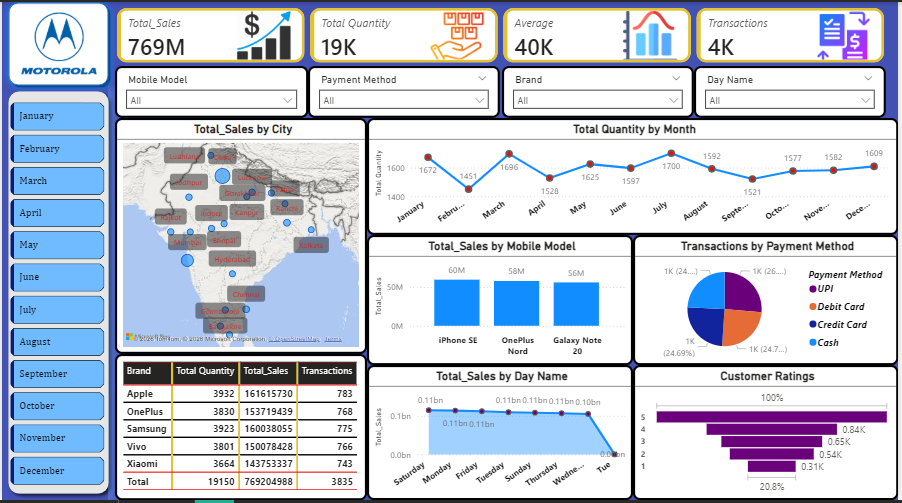

This screenshot's page, from the dashboard's own definition file:
{"tool":"powerbi","page":{"name":"Page 1","canvas":[1280,720],"ordinal":0},"visuals":[{"type":"shape","box":[0,0,161.4,137.1],"z":0},{"type":"image","box":[11.4,14.3,140,107.1],"z":1000},{"type":"shape","box":[0,127.1,161.4,592.9],"z":2000},{"type":"advancedSlicerVisual","fields":{"Values":["Sheet1.Date.Variation.Date Hierarchy.Month"]},"box":[7.1,127.1,144.3,592.9],"z":3000},{"type":"cardVisual","fields":{"Data":["Sheet1.Total_Sales","Sheet1.Total Quantity","Sheet1.Average","Sheet1.Transactions"]},"box":[147.1,0,1132.9,112.9],"z":4000},{"type":"map","fields":{"Category":["Sheet1.City"],"Size":["Sheet1.Total_Sales"]},"box":[161.4,174.3,360,337.1],"z":5000},{"type":"lineChart","fields":{"Y":["Sheet1.Total Quantity"],"Category":["Sheet1.Date.Variation.Date Hierarchy.Month"]},"box":[521.4,174.3,758.6,167.1],"z":6000},{"type":"clusteredColumnChart","fields":{"Category":["Sheet1.Mobile Model"],"Y":["Sheet1.Total_Sales"]},"box":[521.4,341.4,380,185.7],"z":7000},{"type":"pieChart","fields":{"Category":["Sheet1.Payment Method"],"Y":["Sheet1.Transactions"]},"box":[901.4,341.4,378.6,185.7],"z":8000},{"type":"funnel","title":"Customer Ratings","fields":{"Category":["Sheet1.Customer Ratings"],"Y":["CountNonNull(Sheet1.Customer Ratings)"]},"box":[901.4,527.1,378.6,192.9],"z":9000},{"type":"areaChart","fields":{"Category":["Sheet1.Day Name"],"Y":["Sheet1.Total_Sales"]},"box":[521.4,527.1,380,192.9],"z":10000},{"type":"tableEx","fields":{"Values":["Sheet1.Brand","Sheet1.Total Quantity","Sheet1.Total_Sales","Sheet1.Transactions"]},"box":[161.4,511.4,360,208.6],"z":11000},{"type":"slicer","fields":{"Values":["Sheet1.Mobile Model"]},"box":[161.4,100,275.7,74.3],"z":12000},{"type":"slicer","fields":{"Values":["Sheet1.Payment Method"]},"box":[437.1,100,274.3,74.3],"z":12001},{"type":"slicer","fields":{"Values":["Sheet1.Brand"]},"box":[714.3,100,274.3,74.3],"z":12002},{"type":"slicer","fields":{"Values":["Sheet1.Day Name"]},"box":[988.6,100,274.3,74.3],"z":12003}]}

Visuals, with their boxes in screenshot pixels (x1, y1, x2, y2), scaled from the page's 1280x720 canvas onto the 902x503 screenshot:
shape: (0,0,114,96)
image: (8,10,107,85)
shape: (0,89,114,502)
advancedSlicerVisual - Sheet1.Date.Variation.Date Hierarchy.Month: (5,89,107,502)
cardVisual - Sheet1.Total_Sales x Sheet1.Total Quantity: (104,0,901,79)
map - Sheet1.City x Sheet1.Total_Sales: (114,122,367,357)
lineChart - Sheet1.Total Quantity x Sheet1.Date.Variation.Date Hierarchy.Month: (367,122,901,239)
clusteredColumnChart - Sheet1.Mobile Model x Sheet1.Total_Sales: (367,239,635,368)
pieChart - Sheet1.Payment Method x Sheet1.Transactions: (635,239,901,368)
"Customer Ratings" funnel: (635,368,901,502)
areaChart - Sheet1.Day Name x Sheet1.Total_Sales: (367,368,635,502)
tableEx - Sheet1.Brand x Sheet1.Total Quantity: (114,357,367,502)
slicer - Sheet1.Mobile Model: (114,70,308,122)
slicer - Sheet1.Payment Method: (308,70,501,122)
slicer - Sheet1.Brand: (503,70,697,122)
slicer - Sheet1.Day Name: (697,70,890,122)
